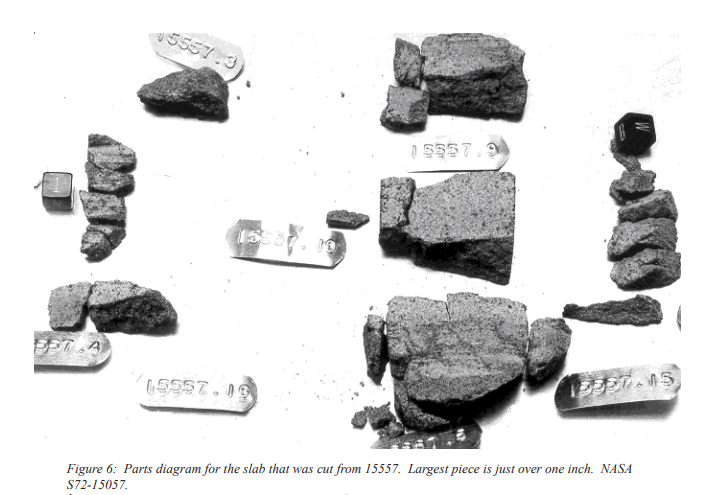Basalt: (351, 295, 561, 436)
